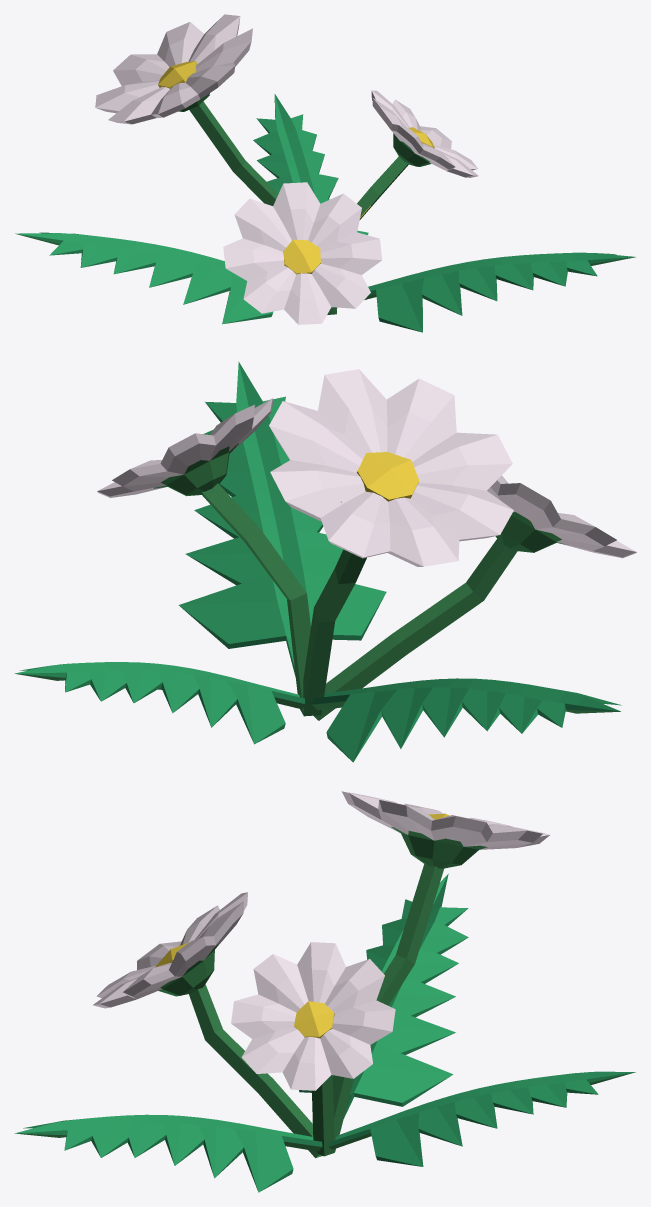
File: 3D_Model_Daisy_LP_v3.fbx
The picture shows the model from 3 angles, top to bottom: view 1: azimuth 30°, elevation 25°; view 2: azimuth 150°, elevation 25°; view 3: azimuth 270°, elevation 25°; orthographic projection. The views are drawn at different scales.
Visible parts, largest first — view 1: daisy_03; view 2: daisy_03; view 3: daisy_03.
Part boxes in pixels (box(x1,y1,x2,y2)): daisy_03: box(15, 14, 635, 332); daisy_03: box(15, 361, 636, 762); daisy_03: box(14, 791, 635, 1192).
Size of the model in its own units: 229 by 133 by 230.
